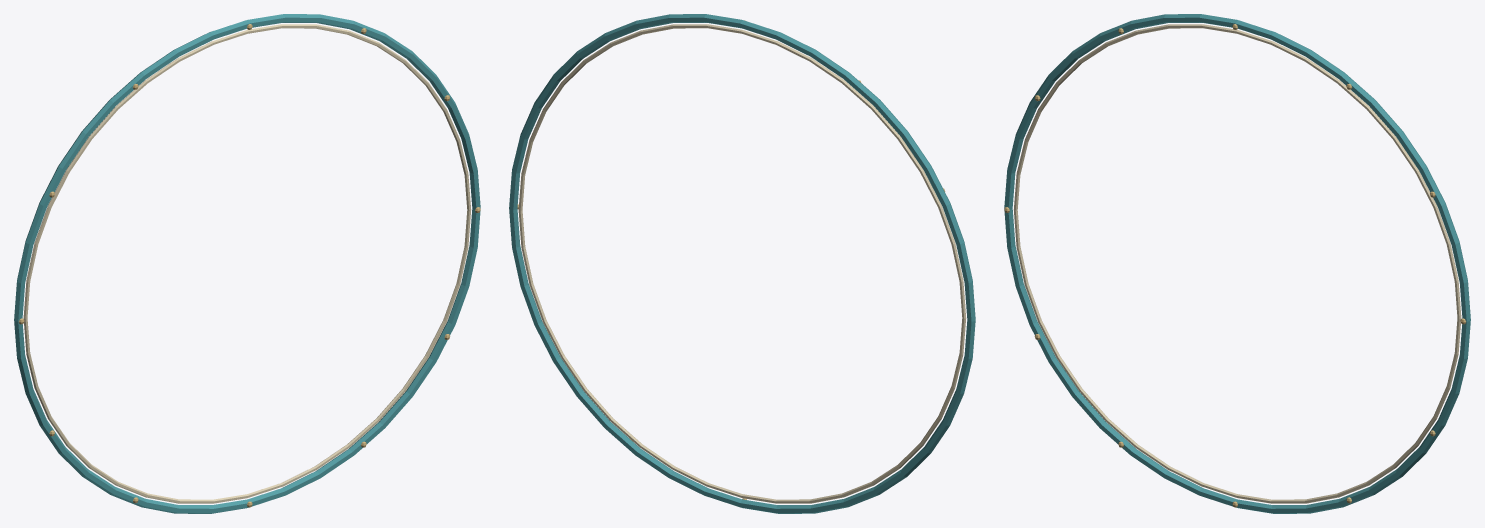
Rendered from marine-gate.glb.
The picture shows the model from 3 angles, left to right: view 1: azimuth 30°, elevation 25°; view 2: azimuth 150°, elevation 25°; view 3: azimuth 330°, elevation 25°; orthographic projection.
Visible parts, largest first — view 1: marine-gate; view 2: marine-gate; view 3: marine-gate.
Part boxes in pixels (left/top/right/bottom): marine-gate: left=14, top=14, right=480, bottom=513; marine-gate: left=509, top=14, right=975, bottom=513; marine-gate: left=1004, top=14, right=1470, bottom=513.
Size of the model in its own units: 19.18 by 19.18 by 0.3952.
